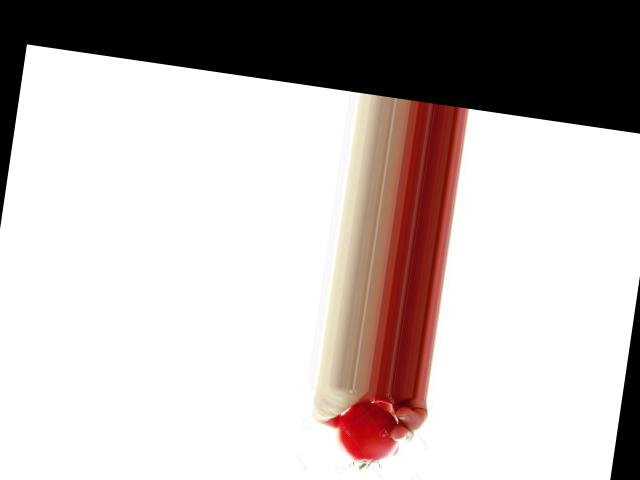tomato: (333, 399, 404, 468)
